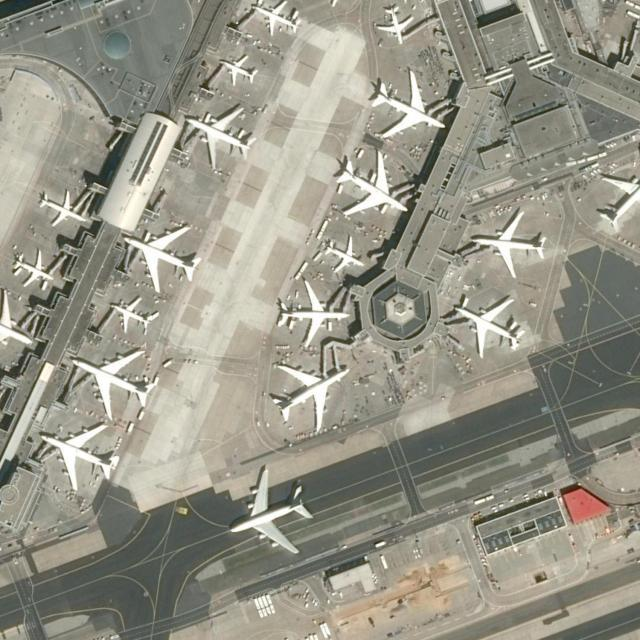Aircraft: (225, 463, 317, 557), (66, 344, 158, 420), (264, 357, 352, 431), (118, 219, 202, 293), (467, 207, 549, 281), (38, 420, 122, 492), (366, 66, 446, 139), (273, 276, 351, 350), (330, 148, 412, 218), (448, 294, 529, 361), (181, 102, 257, 170), (594, 157, 640, 233), (33, 187, 89, 229), (0, 283, 32, 353), (107, 292, 161, 332), (10, 247, 57, 288), (248, 0, 301, 36), (321, 233, 366, 273), (373, 3, 415, 45), (216, 51, 260, 85)
